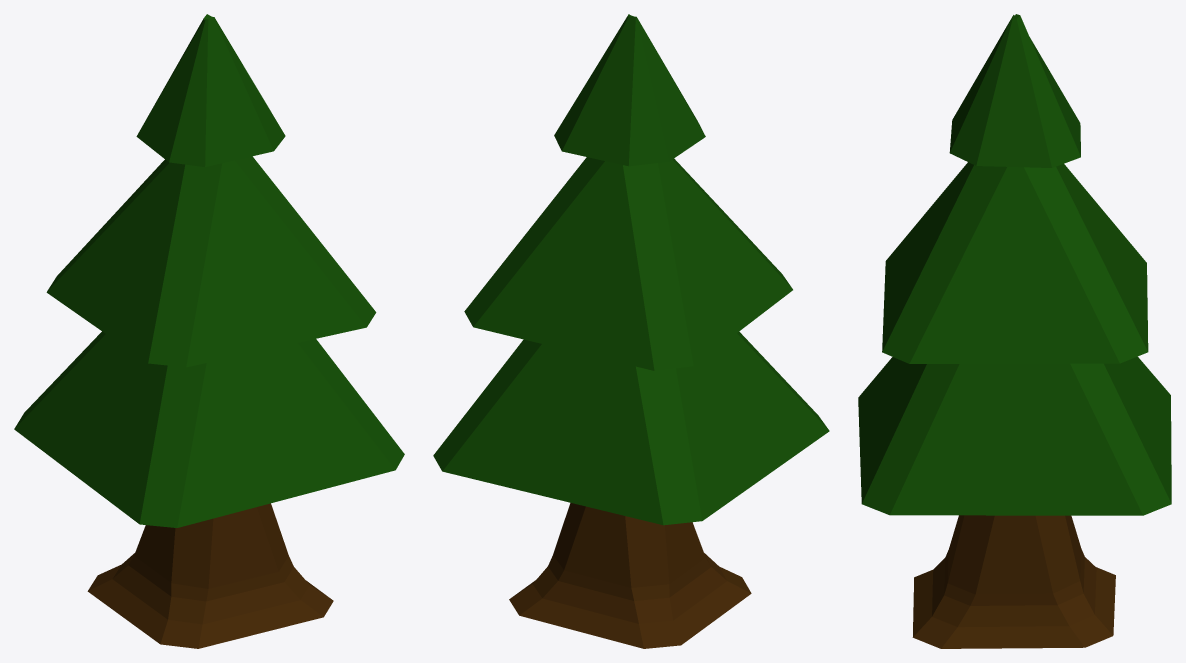
The model's file is Tree1.fbx.
3 views of the same model, side by side, from view 1: azimuth 30°, elevation 25°; view 2: azimuth 150°, elevation 25°; view 3: azimuth 270°, elevation 25° (orthographic).
Parts seen in each view (by area): view 1: Cube; view 2: Cube; view 3: Cube.
Boxes of the visible parts, box(x1,y1,x2,y2) form: Cube: box(14, 14, 404, 648); Cube: box(433, 14, 829, 648); Cube: box(858, 14, 1171, 648).
Size of the model in its own units: 317 by 658 by 316.
